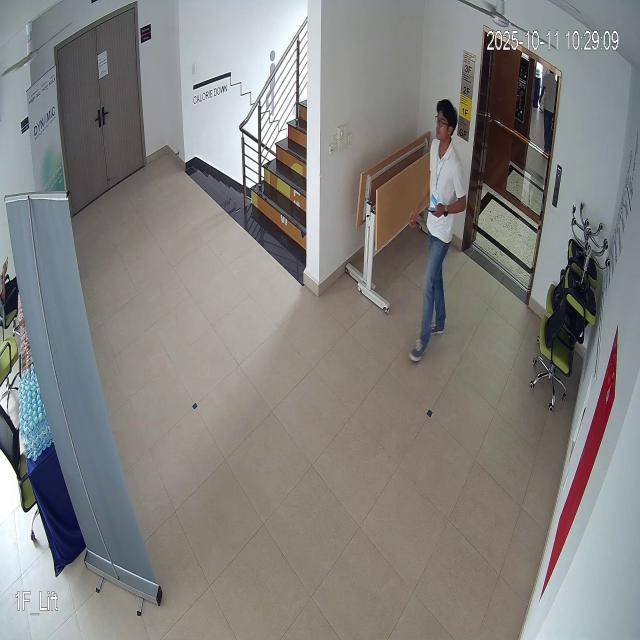face: (429, 92, 460, 156)
